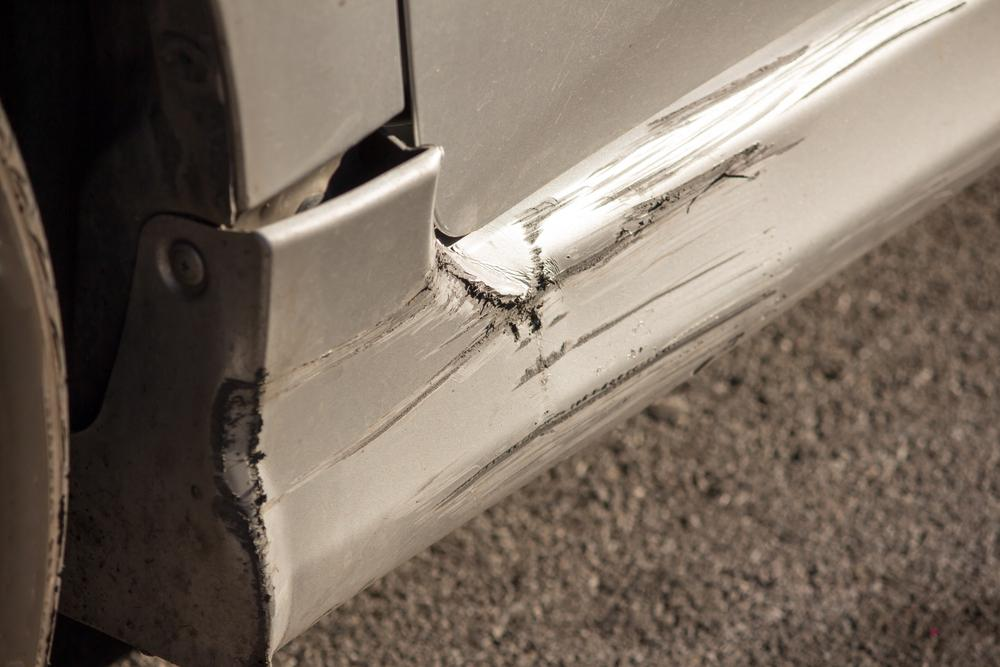scratch: (209, 0, 1000, 598)
